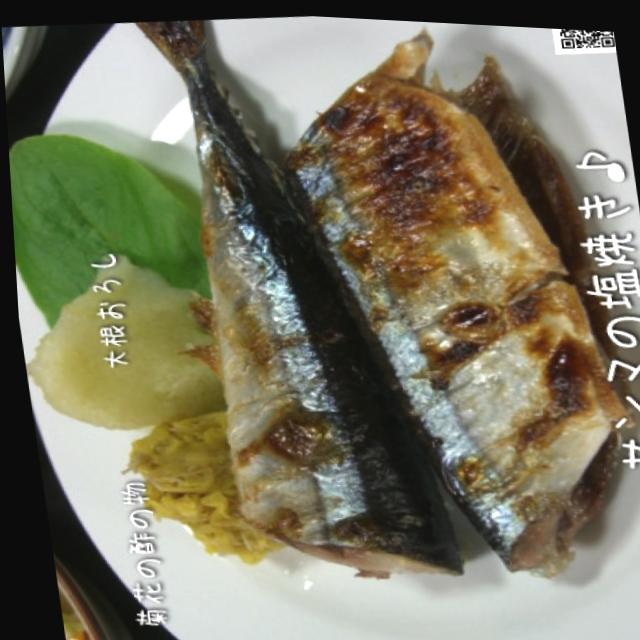熟制海鲜: (124, 5, 595, 640)
